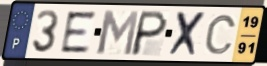3: (30, 9, 61, 54)
C: (203, 13, 238, 56)
E: (59, 9, 98, 54)
M: (95, 9, 141, 57)
P: (128, 9, 170, 58)
X: (167, 10, 210, 59)
